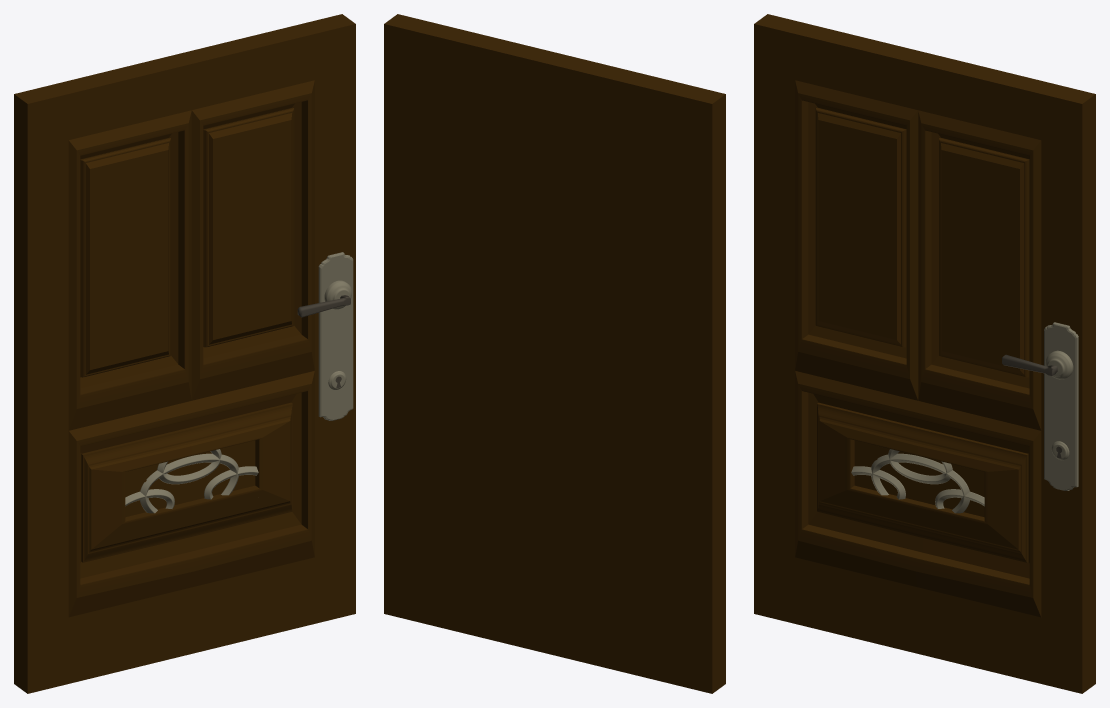
File: maindoorcool.fbx
3 views of the same model, side by side, from view 1: azimuth 30°, elevation 25°; view 2: azimuth 150°, elevation 25°; view 3: azimuth 330°, elevation 25° (orthographic).
Visible parts, largest first — view 1: Doormain; view 2: Doormain; view 3: Doormain.
Part boxes in pixels (box(x1,y1,x2,y2)): Doormain: box(14, 14, 355, 693); Doormain: box(384, 14, 725, 693); Doormain: box(754, 14, 1095, 693).
Bounding box in the file's own units: 349 × 600 × 49.47.
